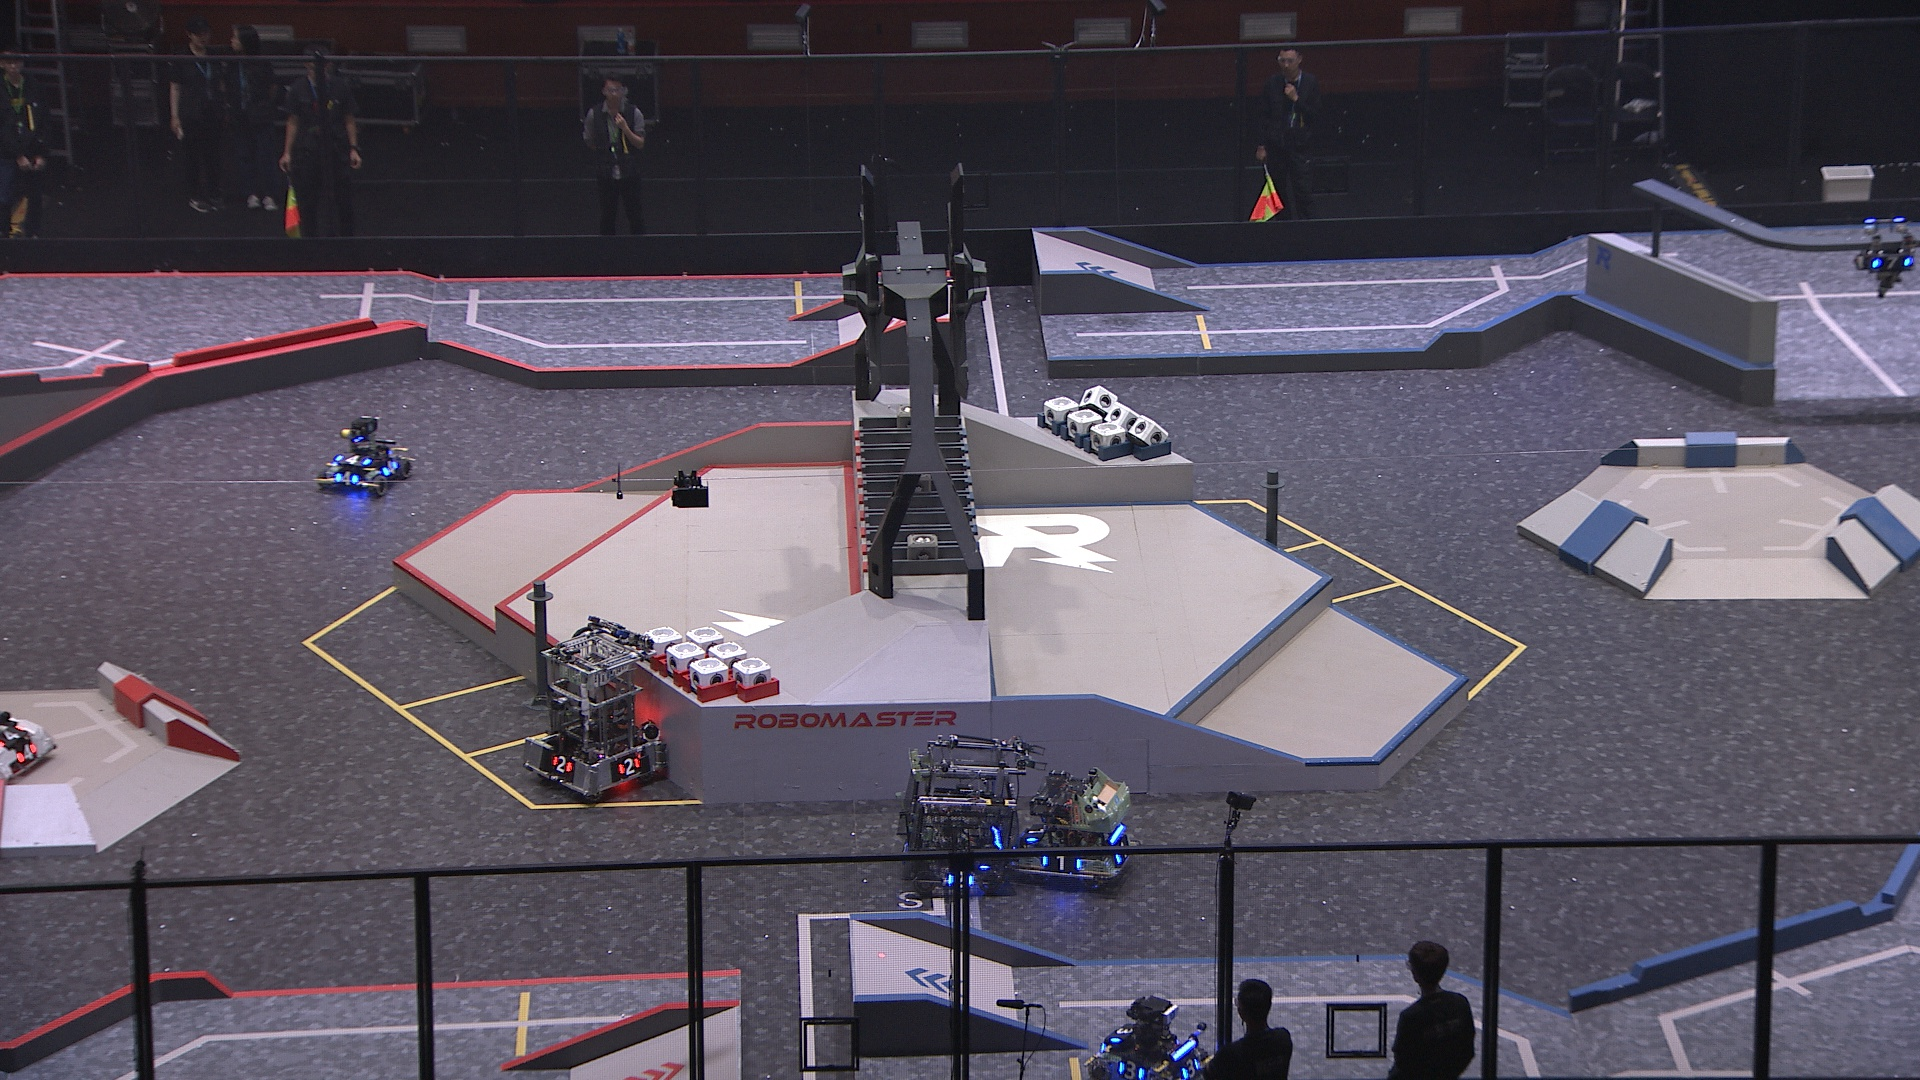armor: (1040, 855, 1083, 873), (1116, 1058, 1149, 1080), (0, 723, 26, 746), (1873, 256, 1913, 270), (550, 752, 576, 774), (334, 469, 363, 489), (1109, 1026, 1134, 1048), (617, 757, 644, 778), (15, 742, 40, 764), (1179, 1058, 1204, 1079), (334, 454, 373, 467), (1026, 825, 1044, 845), (380, 462, 400, 479)
car: (522, 624, 669, 806), (895, 733, 1022, 894), (1011, 767, 1135, 893), (1087, 993, 1209, 1080), (313, 417, 413, 498)
watcher: (1851, 215, 1920, 299)
